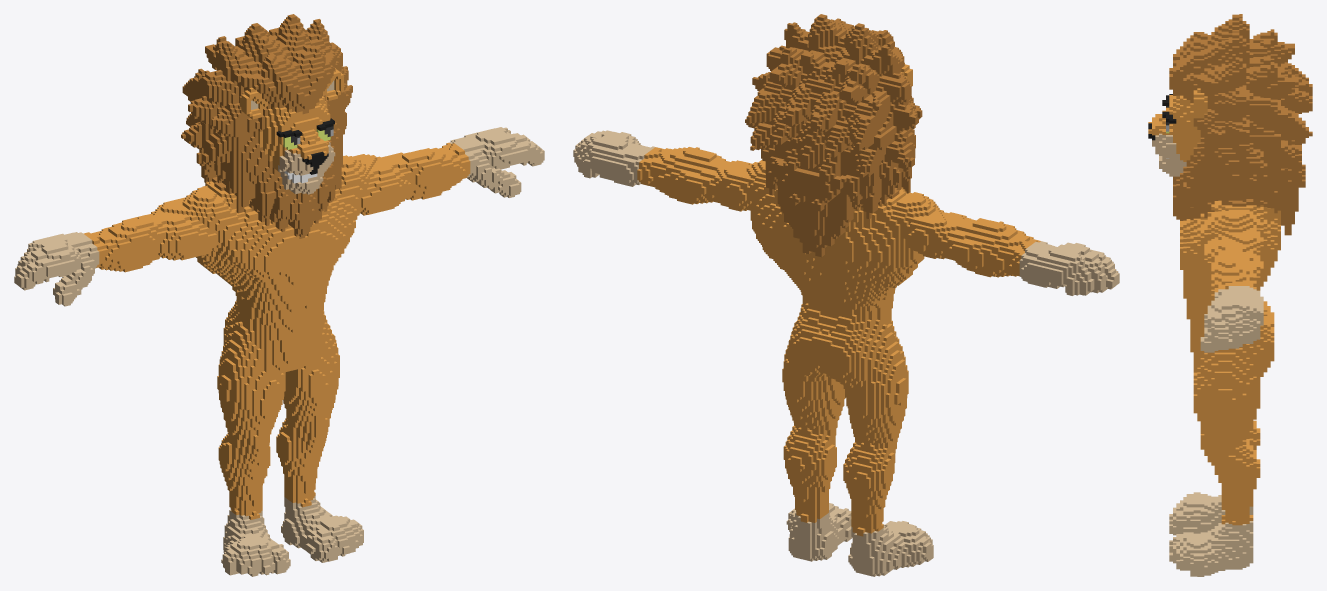
The picture shows the model from 3 angles, left to right: view 1: azimuth 30°, elevation 25°; view 2: azimuth 150°, elevation 25°; view 3: azimuth 270°, elevation 25°; orthographic projection. The views are drawn at different scales.
Visible parts, largest first — view 1: grin; view 2: grin; view 3: grin.
Part boxes in pixels (<box>): grin: <box>14,14,544,576</box>; grin: <box>573,14,1119,576</box>; grin: <box>1148,14,1312,576</box>.
Size of the model in its own units: 17.2 by 16.5 by 4.7.
4 materials, 4 textured.
